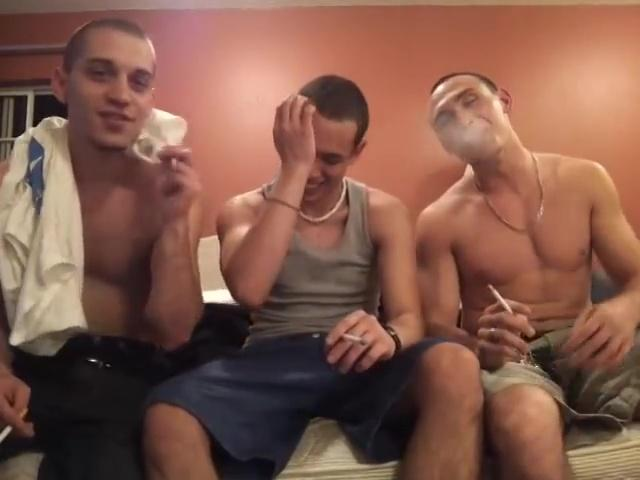cigarette: (0, 406, 28, 443), (485, 282, 516, 314), (337, 330, 371, 346)
